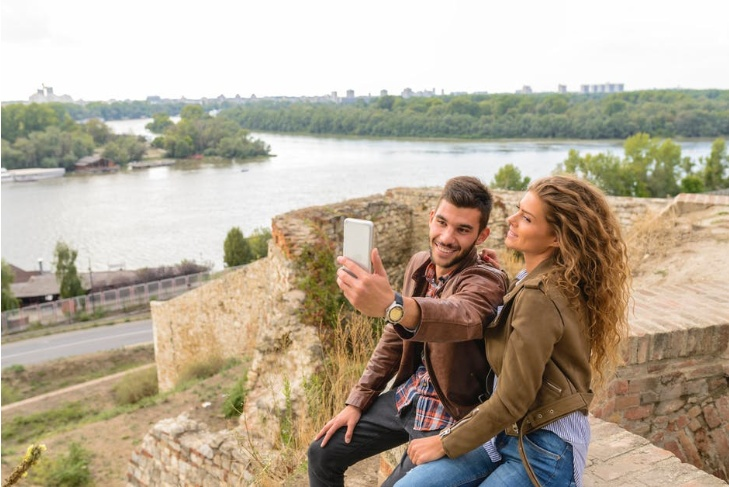face: (430, 203, 477, 267), (505, 191, 543, 254)
